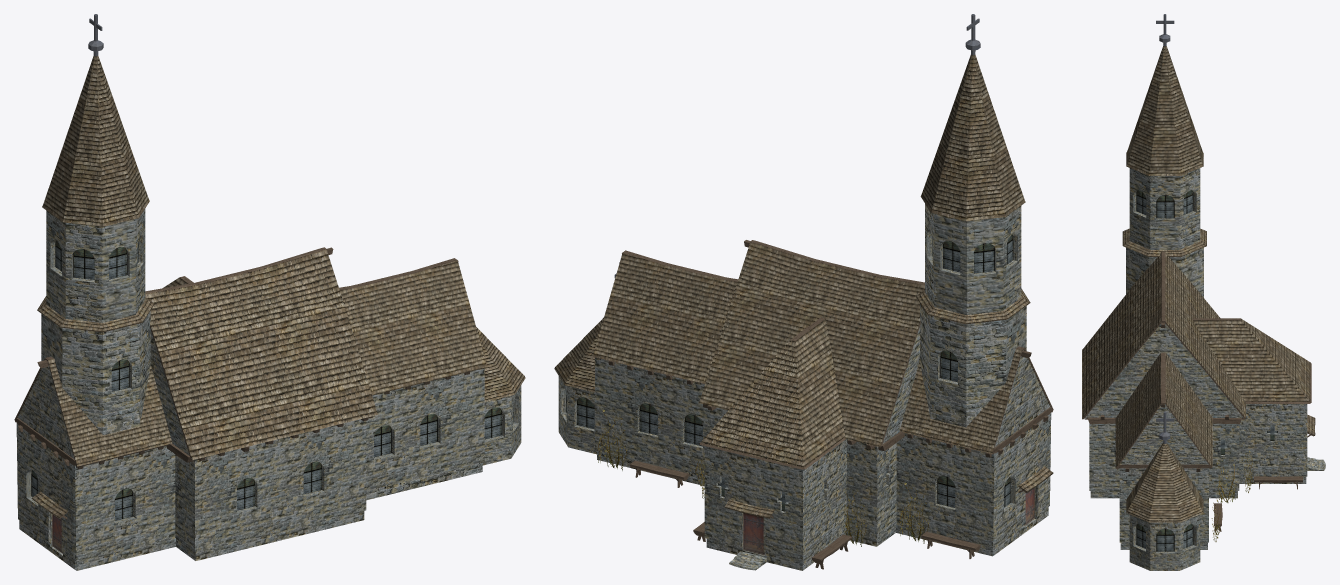
File: f1_church_1.dae
3 views of the same model, side by side, from view 1: azimuth 30°, elevation 25°; view 2: azimuth 150°, elevation 25°; view 3: azimuth 270°, elevation 25° (orthographic). The views are drawn at different scales.
Visible parts, largest first — view 1: Default_Layer; view 2: Default_Layer; view 3: Default_Layer.
Boxes of the visible parts, x1,y1,x2,y2 form: Default_Layer: (14,14,525,570); Default_Layer: (554,14,1053,570); Default_Layer: (1082,14,1325,570).
Size of the model in its own units: 19.71 by 20.69 by 11.32.
